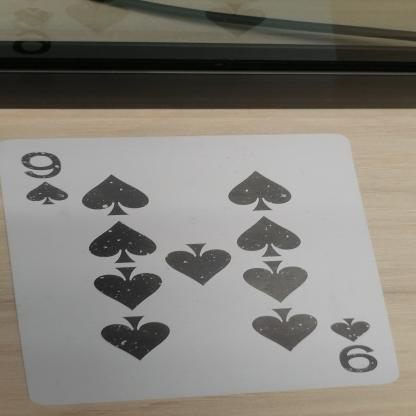9S: (308, 310, 394, 382), (16, 146, 74, 216)
